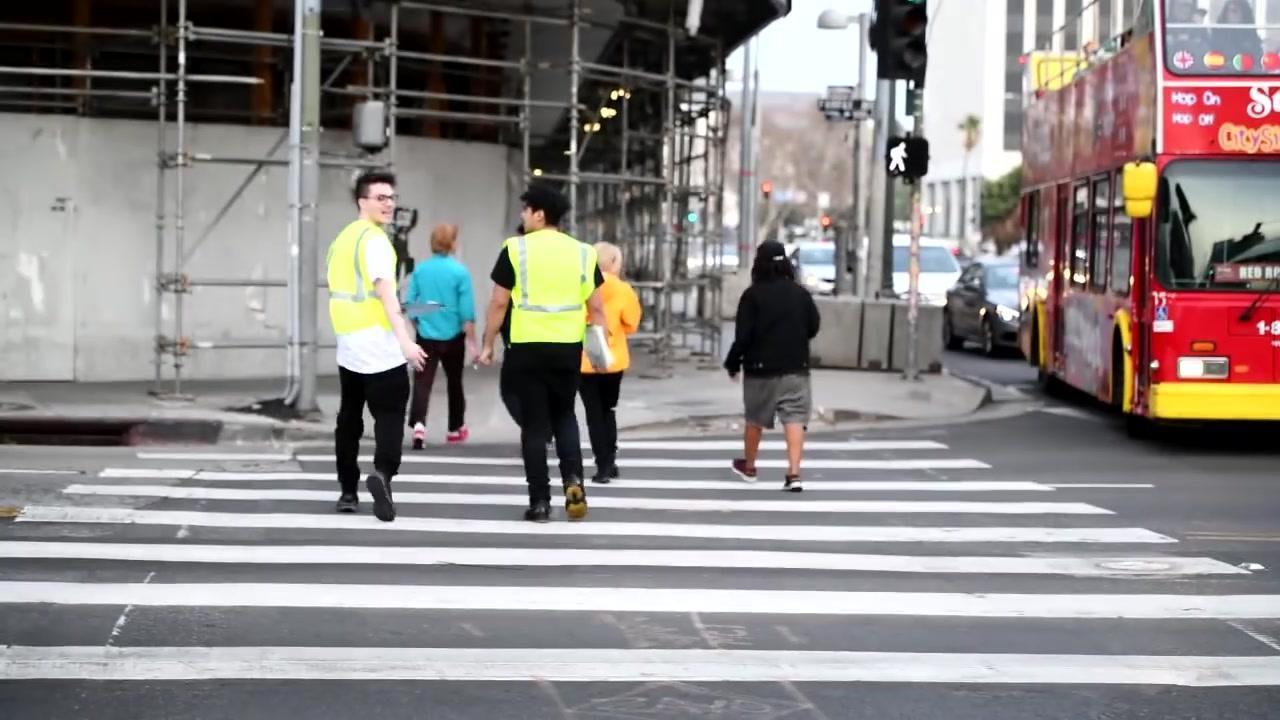Glass: (500, 226, 602, 347), (320, 217, 403, 331)
